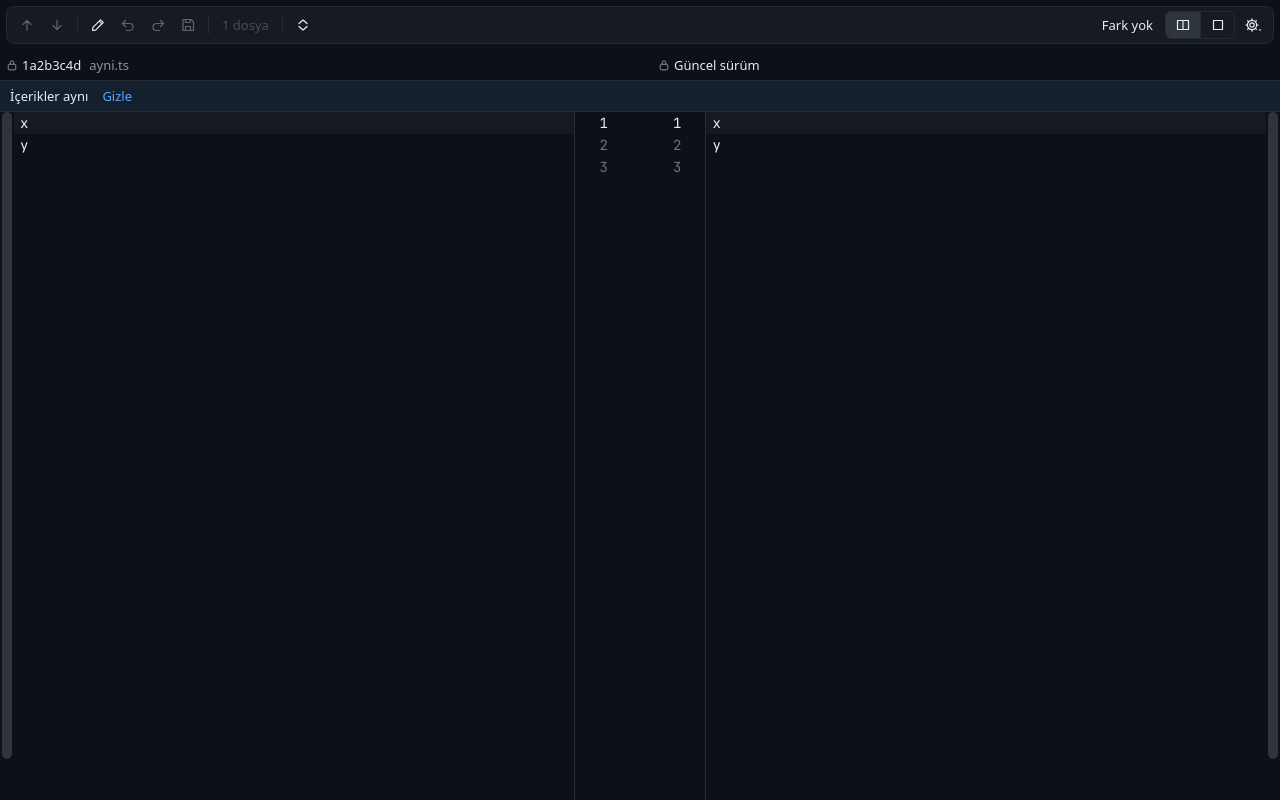
Test case: görünüm › aynı içerikte bilgi bandı ve 'Gizle'
Expected: the element with class "dw-banner" shows "İçerikler aynı", 10,87 -> 88,105
Expected: the text with class "dw-status" reads "Fark yok", 1102,16 -> 1153,34
What coordinates should you click on to do the following:
click the button "Gizle"
I would click on:
 (117, 96)
Its box is 102,87 -> 132,105.
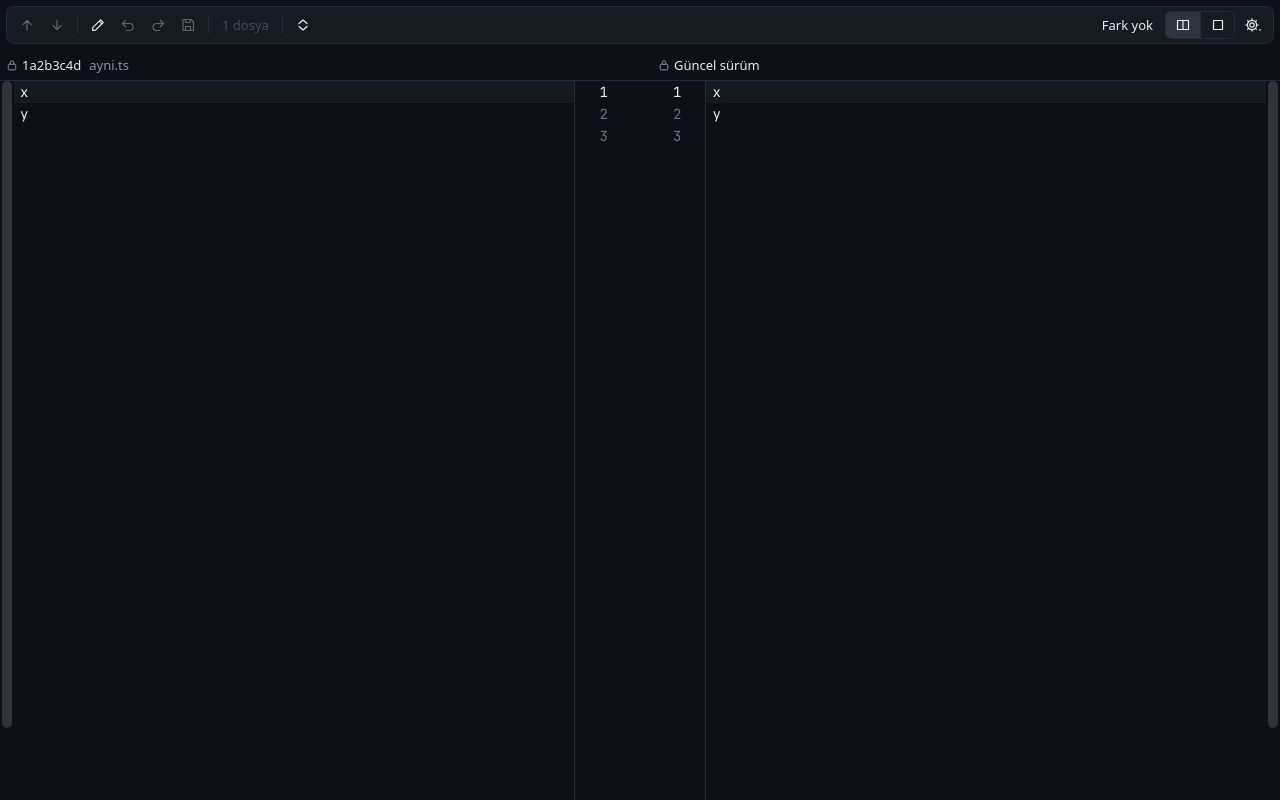
Now the element with class "dw-banner" is gone
